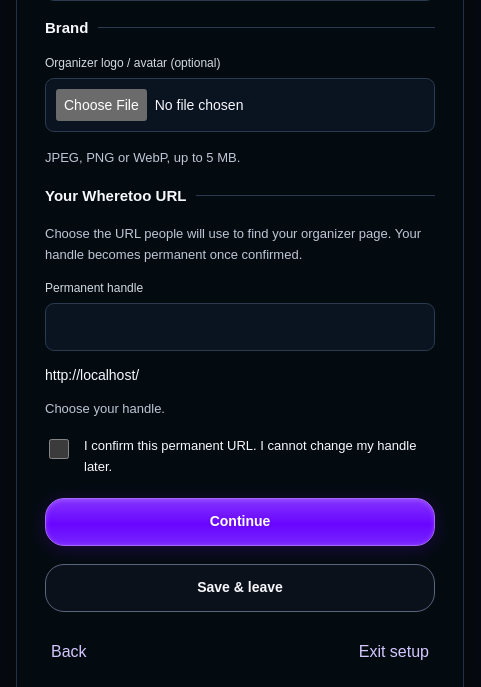
it: requires permanent confirmation before claiming
This screenshot has width=481, height=687.
(page scrolled)
Step 1. Type "night-assembly" into the field labelled "Permanent handle" → (240, 327), box [45,303,435,351]
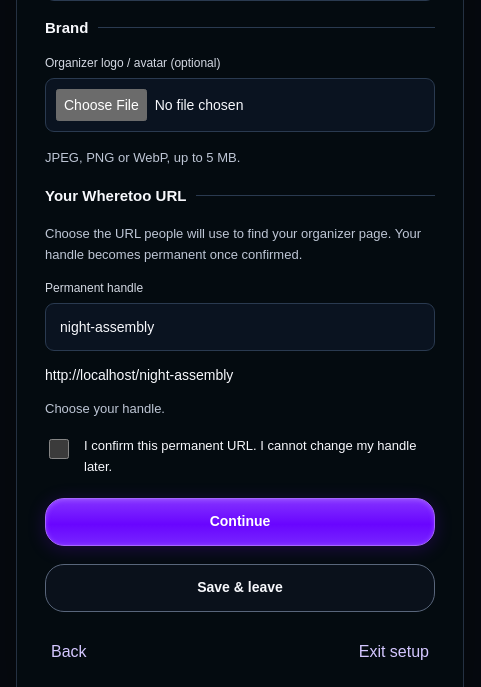
Step 2. Click the button "Continue" → (240, 522), box [45,498,435,546]
(page scrolled)
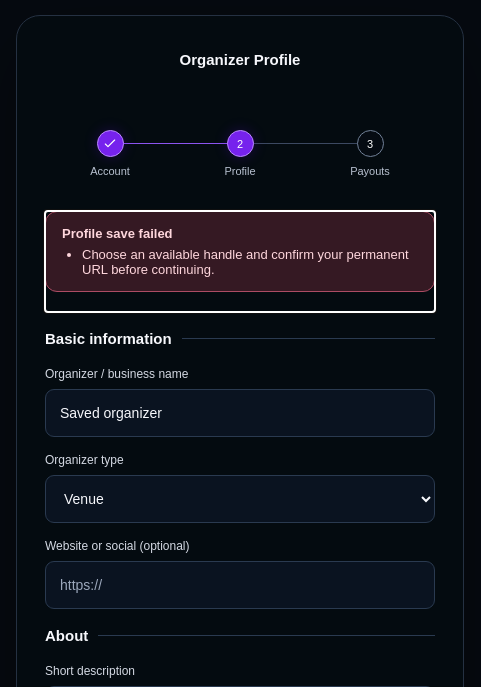
Check: the message shows "confirm", box [82,247,409,277]
